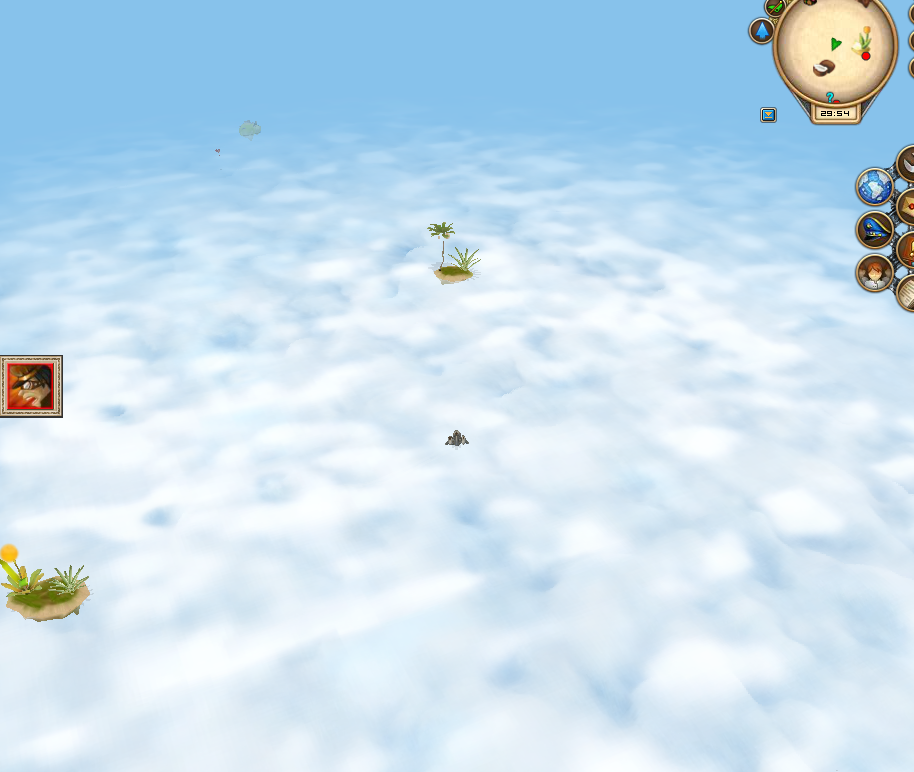palm: (423, 216, 484, 289)
